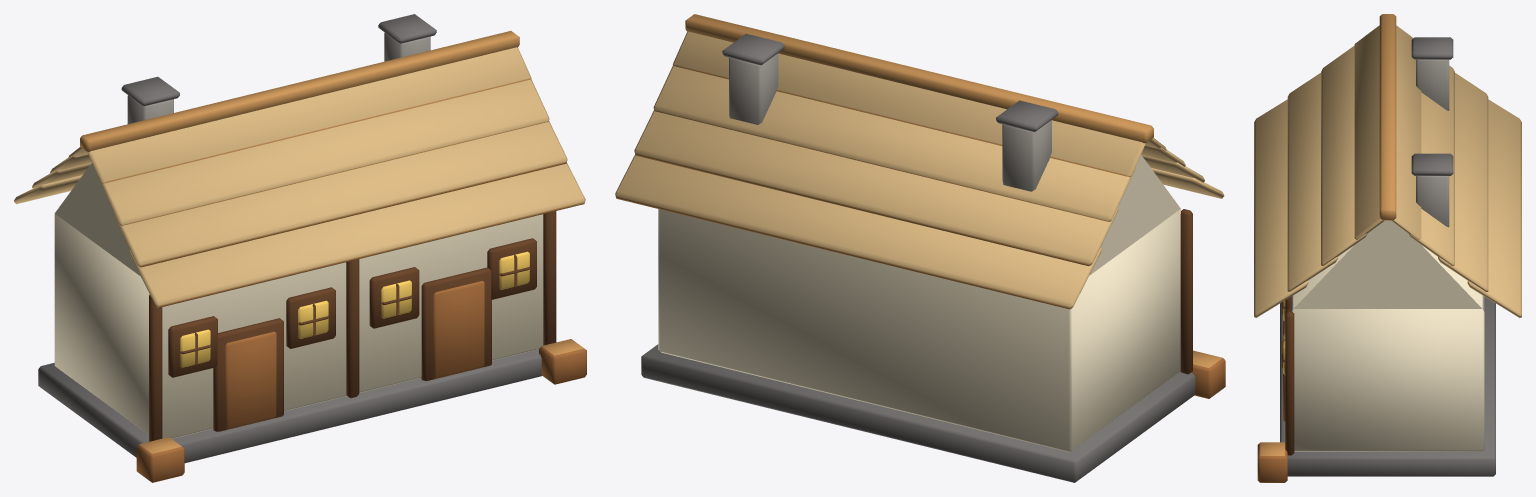
The model's file is B_MedLongHouse.fbx.
The picture shows the model from 3 angles, left to right: view 1: azimuth 30°, elevation 25°; view 2: azimuth 150°, elevation 25°; view 3: azimuth 270°, elevation 25°; orthographic projection. The views are drawn at different scales.
Parts seen in each view (by area): view 1: M_LongHouse; view 2: M_LongHouse; view 3: M_LongHouse.
Part boxes in pixels (x1,y1,x2,y2): M_LongHouse: (14,14,586,482); M_LongHouse: (615,14,1225,482); M_LongHouse: (1254,14,1521,482).
Bounding box in the file's own units: 6.3 × 4.2 × 3.6.
Materials: 1 (1 with a texture image).
